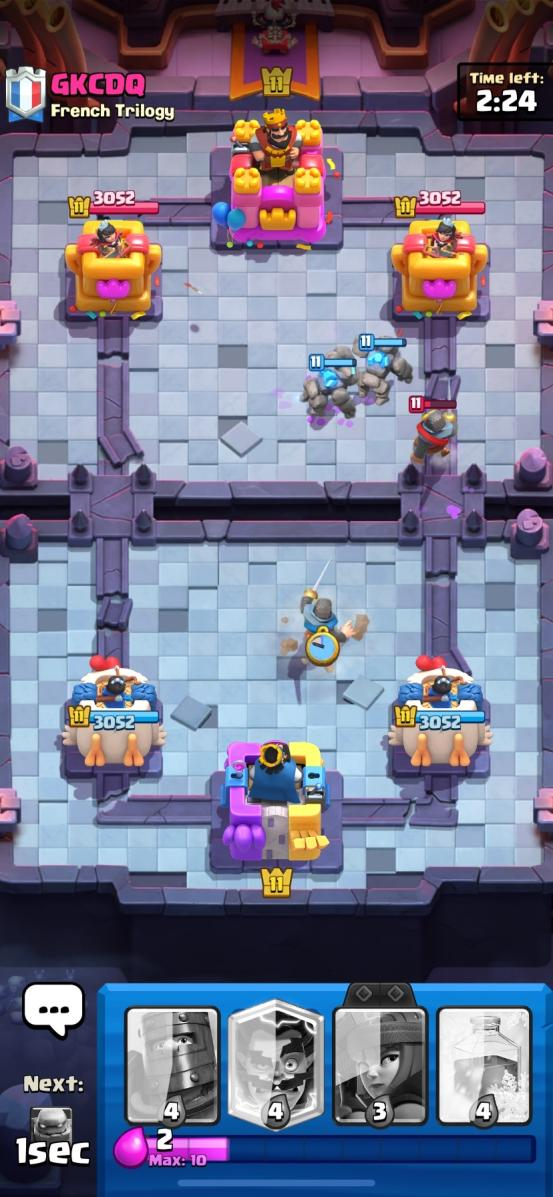EKingTower: (211, 109, 340, 250)
EKnight: (409, 397, 457, 466)
EnemyPrincessTower: (391, 219, 488, 320), (66, 219, 161, 319)
OKnight: (300, 587, 368, 669)
OMiniGolem: (353, 333, 411, 396), (300, 355, 356, 419)
OwnKingTower: (221, 743, 329, 863)
OwnPrincessTower: (388, 655, 491, 773), (63, 655, 165, 768)
